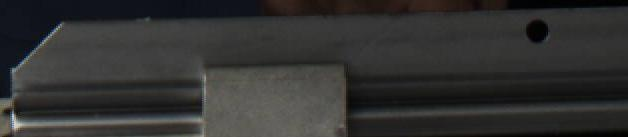cut: (8, 13, 171, 137)
holes: (523, 18, 551, 43)
